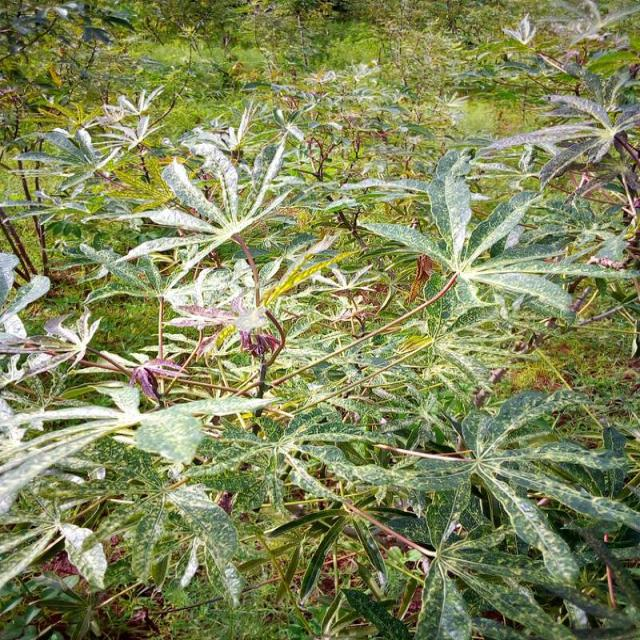cassava leaf: (1, 66, 638, 636), (134, 408, 204, 465)
